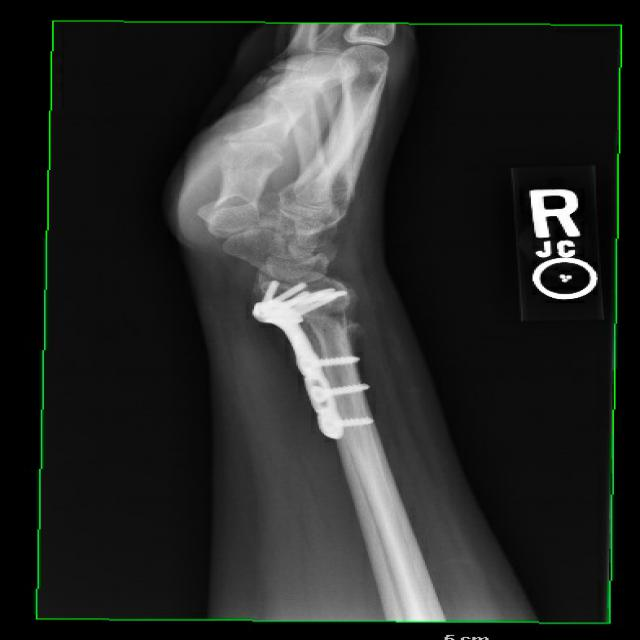x-ray: (240, 274, 407, 444)
